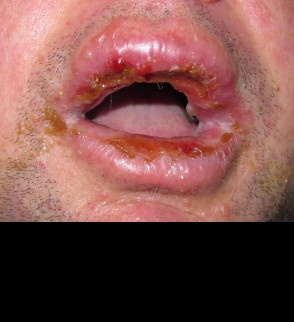SJS-TEN: (0, 22, 233, 188), (83, 118, 263, 180)
